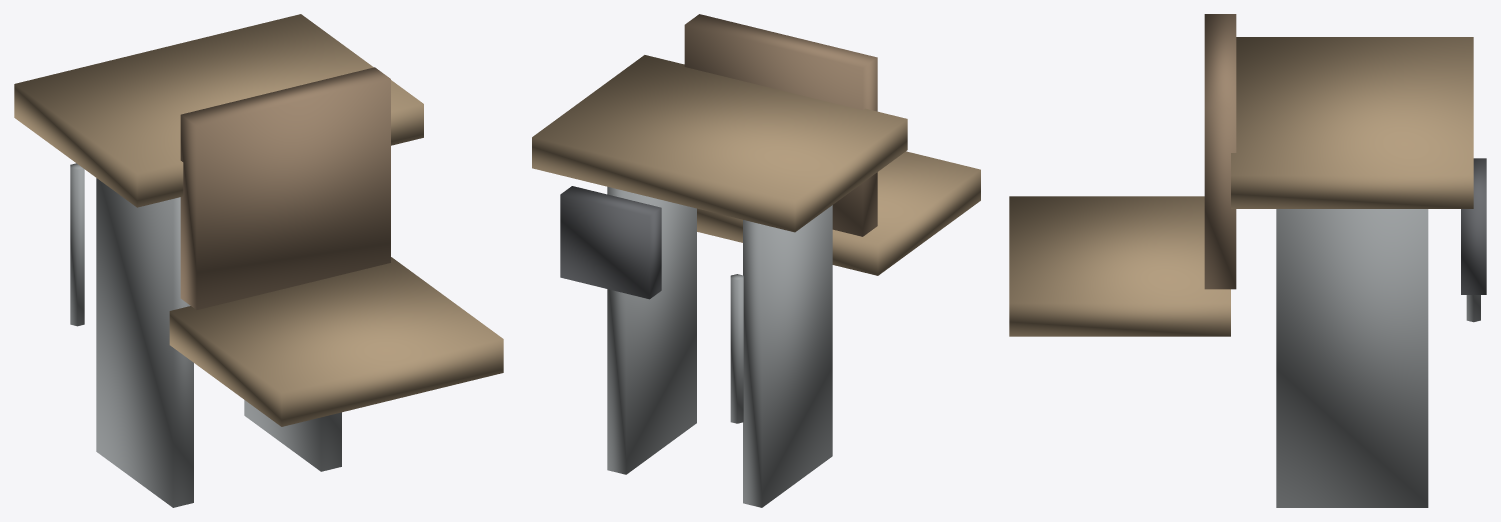
The model's file is classroom_desk__service.glb.
3 views of the same model, side by side, from view 1: azimuth 30°, elevation 25°; view 2: azimuth 150°, elevation 25°; view 3: azimuth 270°, elevation 25° (orthographic). The views are drawn at different scales.
Parts seen in each view (by area): view 1: world; view 2: world; view 3: world.
Part boxes in pixels (x1,y1,x2,y2): world: [14, 14, 503, 507]; world: [532, 14, 980, 507]; world: [1009, 14, 1486, 507].
Bounding box in the file's own units: 0.62 × 0.85 × 0.9042.
